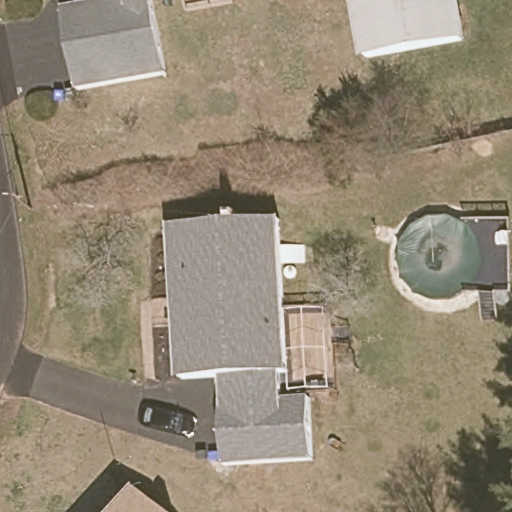DT: (1, 190, 31, 210)
